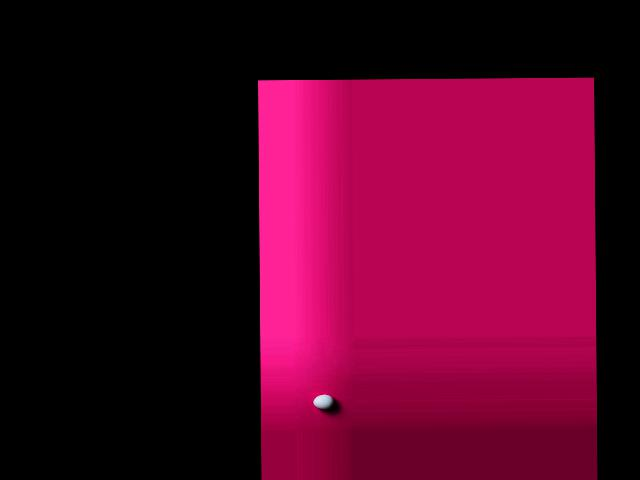egg: (313, 393, 334, 409)
